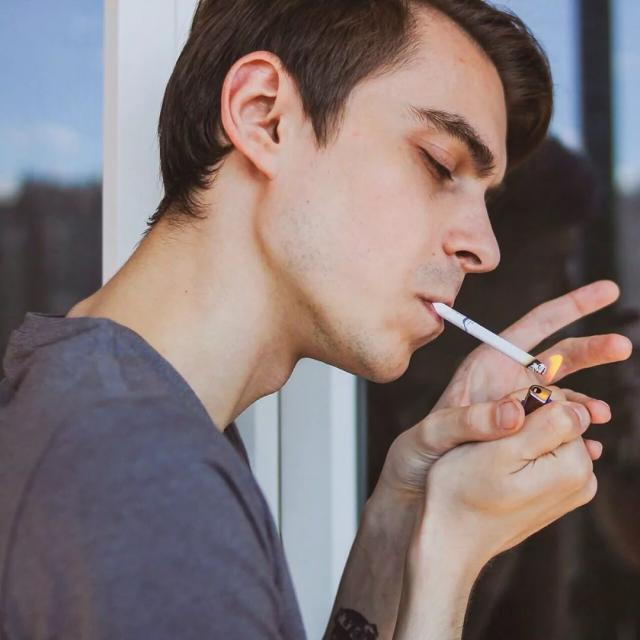cigarette: (432, 298, 550, 380)
